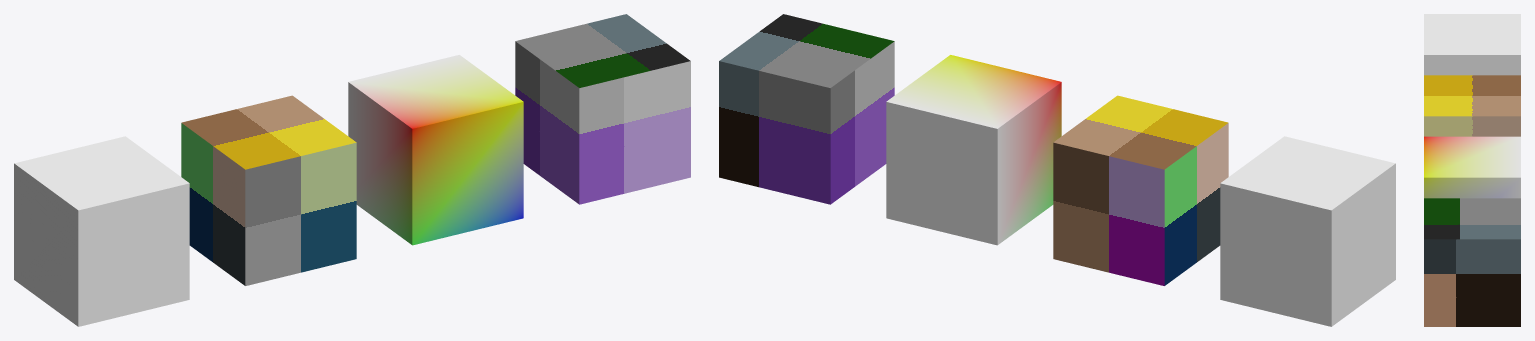
3 renders of one model, left to right at view 1: azimuth 30°, elevation 25°; view 2: azimuth 150°, elevation 25°; view 3: azimuth 270°, elevation 25°, orthographic. The views are drawn at different scales.
Parts seen in each view (by area): view 1: Normal, NormalTexture, ColorNormalTexture, ColorNormal; view 2: Normal, NormalTexture, ColorNormalTexture, ColorNormal; view 3: ColorNormalTexture, ColorNormal, NormalTexture, Normal.
Part boxes in pixels (box(x1,y1,x2,y2)): Normal: box(14, 136, 189, 326); NormalTexture: box(181, 95, 356, 285); ColorNormalTexture: box(515, 14, 690, 204); ColorNormal: box(348, 55, 523, 245); Normal: box(1220, 136, 1395, 326); NormalTexture: box(1053, 95, 1228, 285); ColorNormalTexture: box(719, 14, 894, 204); ColorNormal: box(886, 55, 1061, 245); ColorNormalTexture: box(1424, 198, 1520, 326); ColorNormal: box(1424, 136, 1520, 198); NormalTexture: box(1424, 75, 1520, 136); Normal: box(1424, 14, 1520, 75).
Size of the model in its own units: 5500 by 1000 by 1000.
2 materials, 2 textured.
